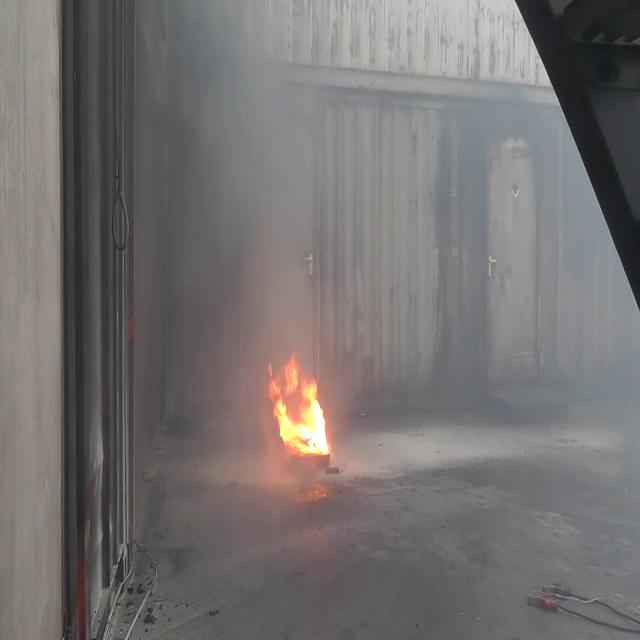Fire: (268, 347, 332, 460)
Smoke: (142, 0, 391, 343)
